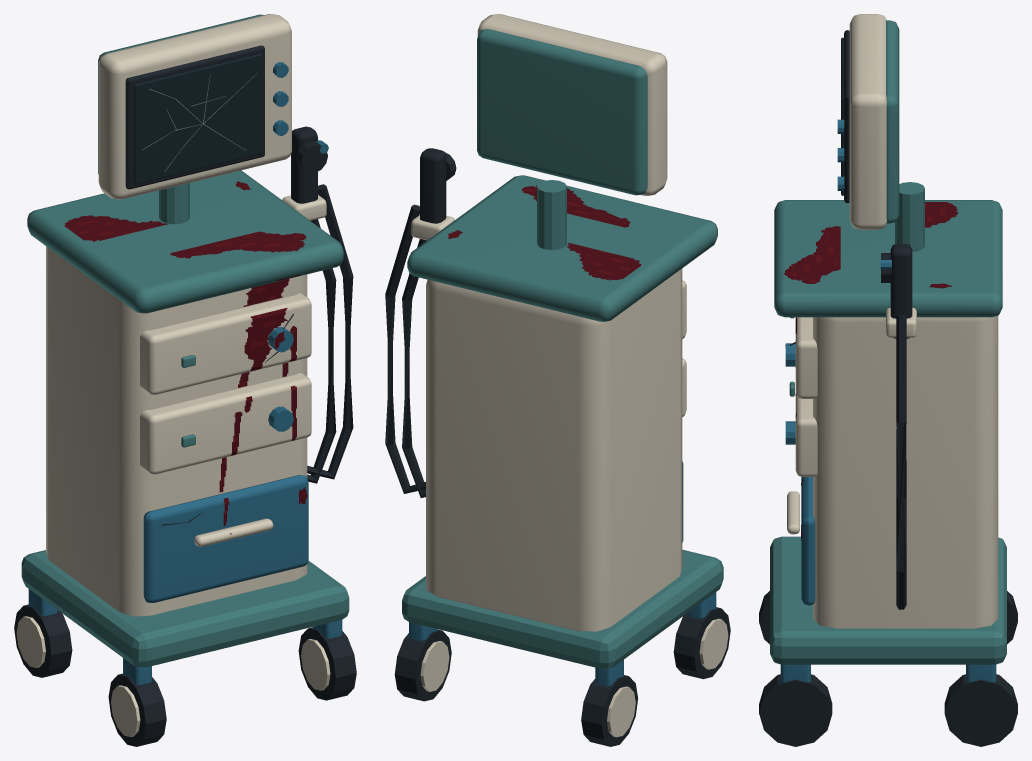
File: endoscopy_tower.glb
3 views of the same model, side by side, from view 1: azimuth 30°, elevation 25°; view 2: azimuth 150°, elevation 25°; view 3: azimuth 270°, elevation 25° (orthographic).
Visible parts, largest first — view 1: Endoscopy_Tower_Outbreak_Static; view 2: Endoscopy_Tower_Outbreak_Static; view 3: Endoscopy_Tower_Outbreak_Static.
Part boxes in pixels (x1=…): Endoscopy_Tower_Outbreak_Static: x1=14, y1=14, x2=356, y2=746; Endoscopy_Tower_Outbreak_Static: x1=385, y1=14, x2=730, y2=746; Endoscopy_Tower_Outbreak_Static: x1=759, y1=14, x2=1017, y2=746.
Bounding box in the file's own units: 0.7408 × 1.64 × 0.6.
